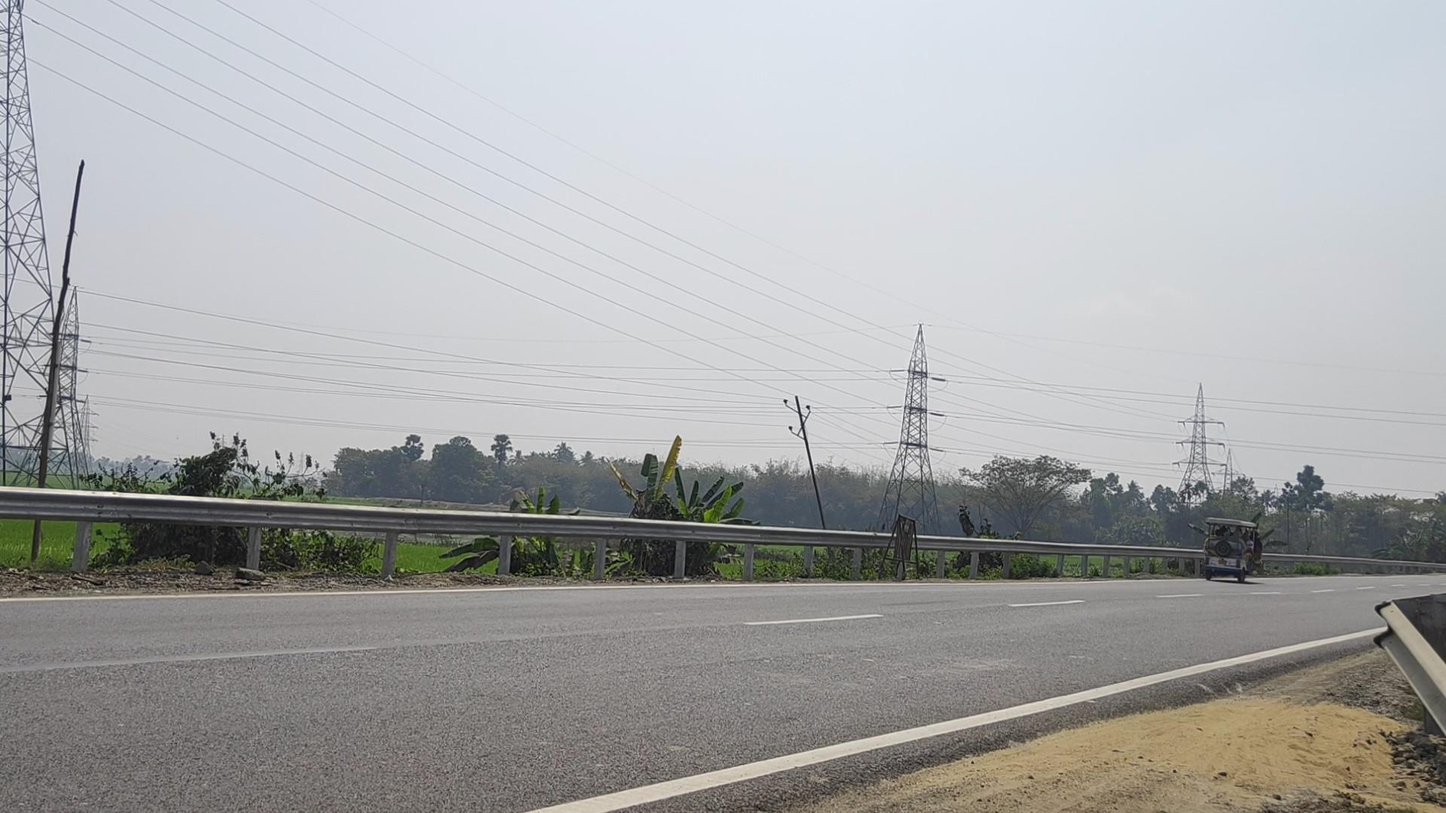Auto: (1203, 517, 1263, 583)
